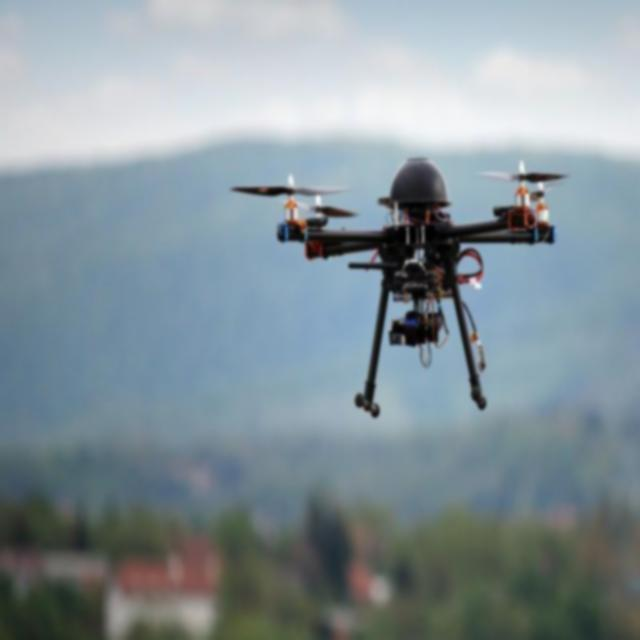UAV: (274, 156, 558, 424)
